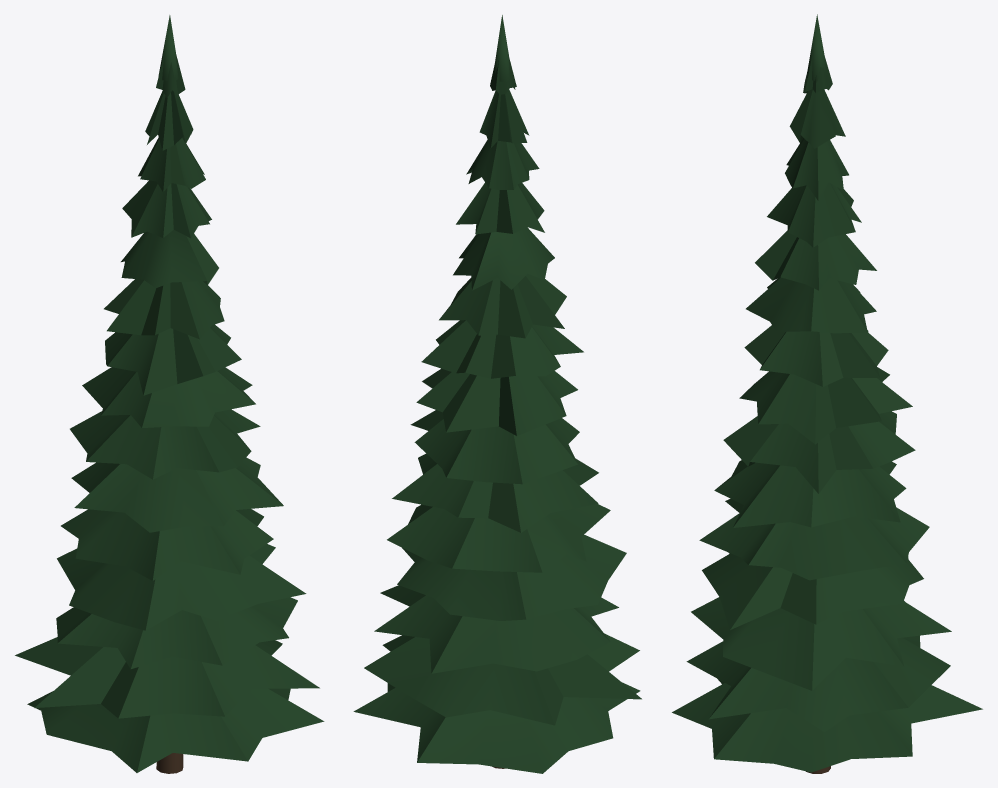
File: props_tree_spruce_flat.glb
The picture shows the model from 3 angles, left to right: view 1: azimuth 30°, elevation 25°; view 2: azimuth 150°, elevation 25°; view 3: azimuth 270°, elevation 25°; orthographic projection.
Visible parts, largest first — view 1: spruce_tiers; view 2: spruce_tiers; view 3: spruce_tiers.
Part boxes in pixels (bbox=[...]): spruce_tiers: bbox=[15, 15, 324, 772]; spruce_tiers: bbox=[353, 15, 641, 773]; spruce_tiers: bbox=[672, 14, 982, 772].
Size of the model in its own units: 7.09 by 19.32 by 7.24.
